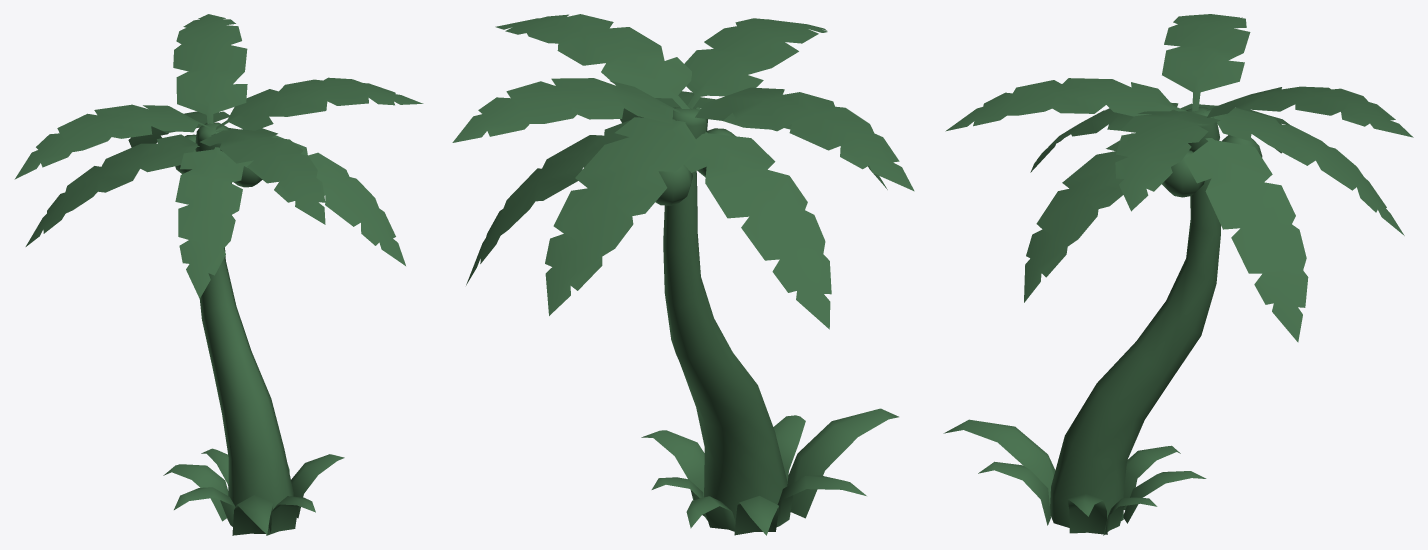
File: S_PalmTree_03.fbx
The picture shows the model from 3 angles, left to right: view 1: azimuth 30°, elevation 25°; view 2: azimuth 150°, elevation 25°; view 3: azimuth 270°, elevation 25°; orthographic projection. The views are drawn at different scales.
Parts seen in each view (by area): view 1: S_PalmTree_03; view 2: S_PalmTree_03; view 3: S_PalmTree_03.
Boxes of the visible parts, left/top/right/bottom form: S_PalmTree_03: left=14, top=14, right=423, bottom=535; S_PalmTree_03: left=452, top=14, right=914, bottom=535; S_PalmTree_03: left=943, top=14, right=1413, bottom=535.
Bounding box in the file's own units: 12.69 × 12.89 × 12.27.
